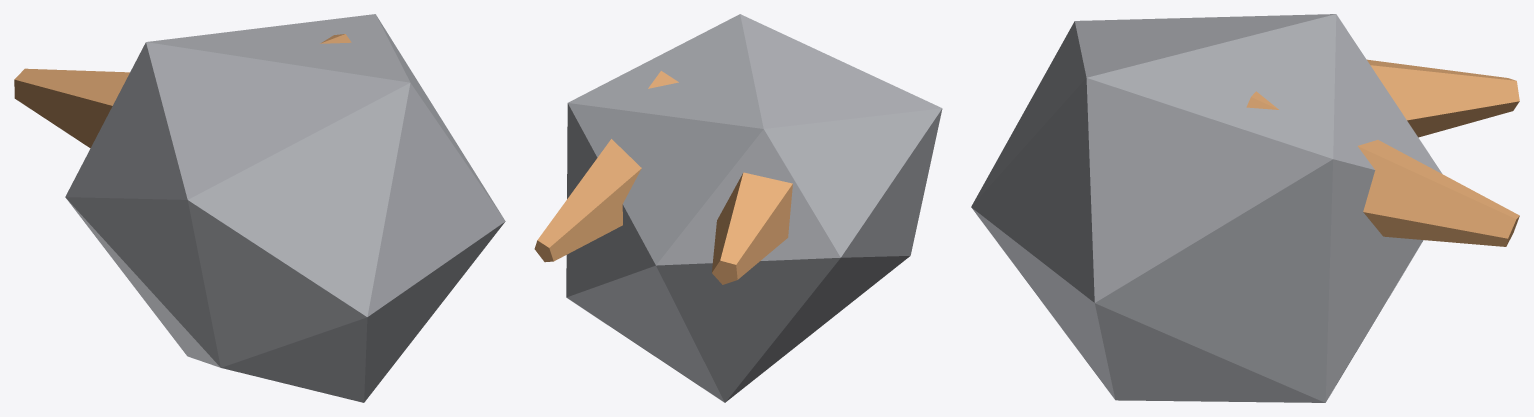
The model's file is CopperOre.fbx.
3 renders of one model, left to right at view 1: azimuth 30°, elevation 25°; view 2: azimuth 150°, elevation 25°; view 3: azimuth 270°, elevation 25°, orthographic. The views are drawn at different scales.
Visible parts, largest first — view 1: fam_rock, fam_copper; view 2: fam_rock, fam_copper; view 3: fam_rock, fam_copper.
Part boxes in pixels (x1,y1,x2,y2): fam_rock: (65,14,505,402); fam_copper: (14,34,351,148); fam_rock: (566,14,942,402); fam_copper: (534,71,792,284); fam_rock: (971,14,1442,402); fam_copper: (1246,59,1519,246).
Size of the model in its own units: 0.8511 by 0.83 by 1.16.
